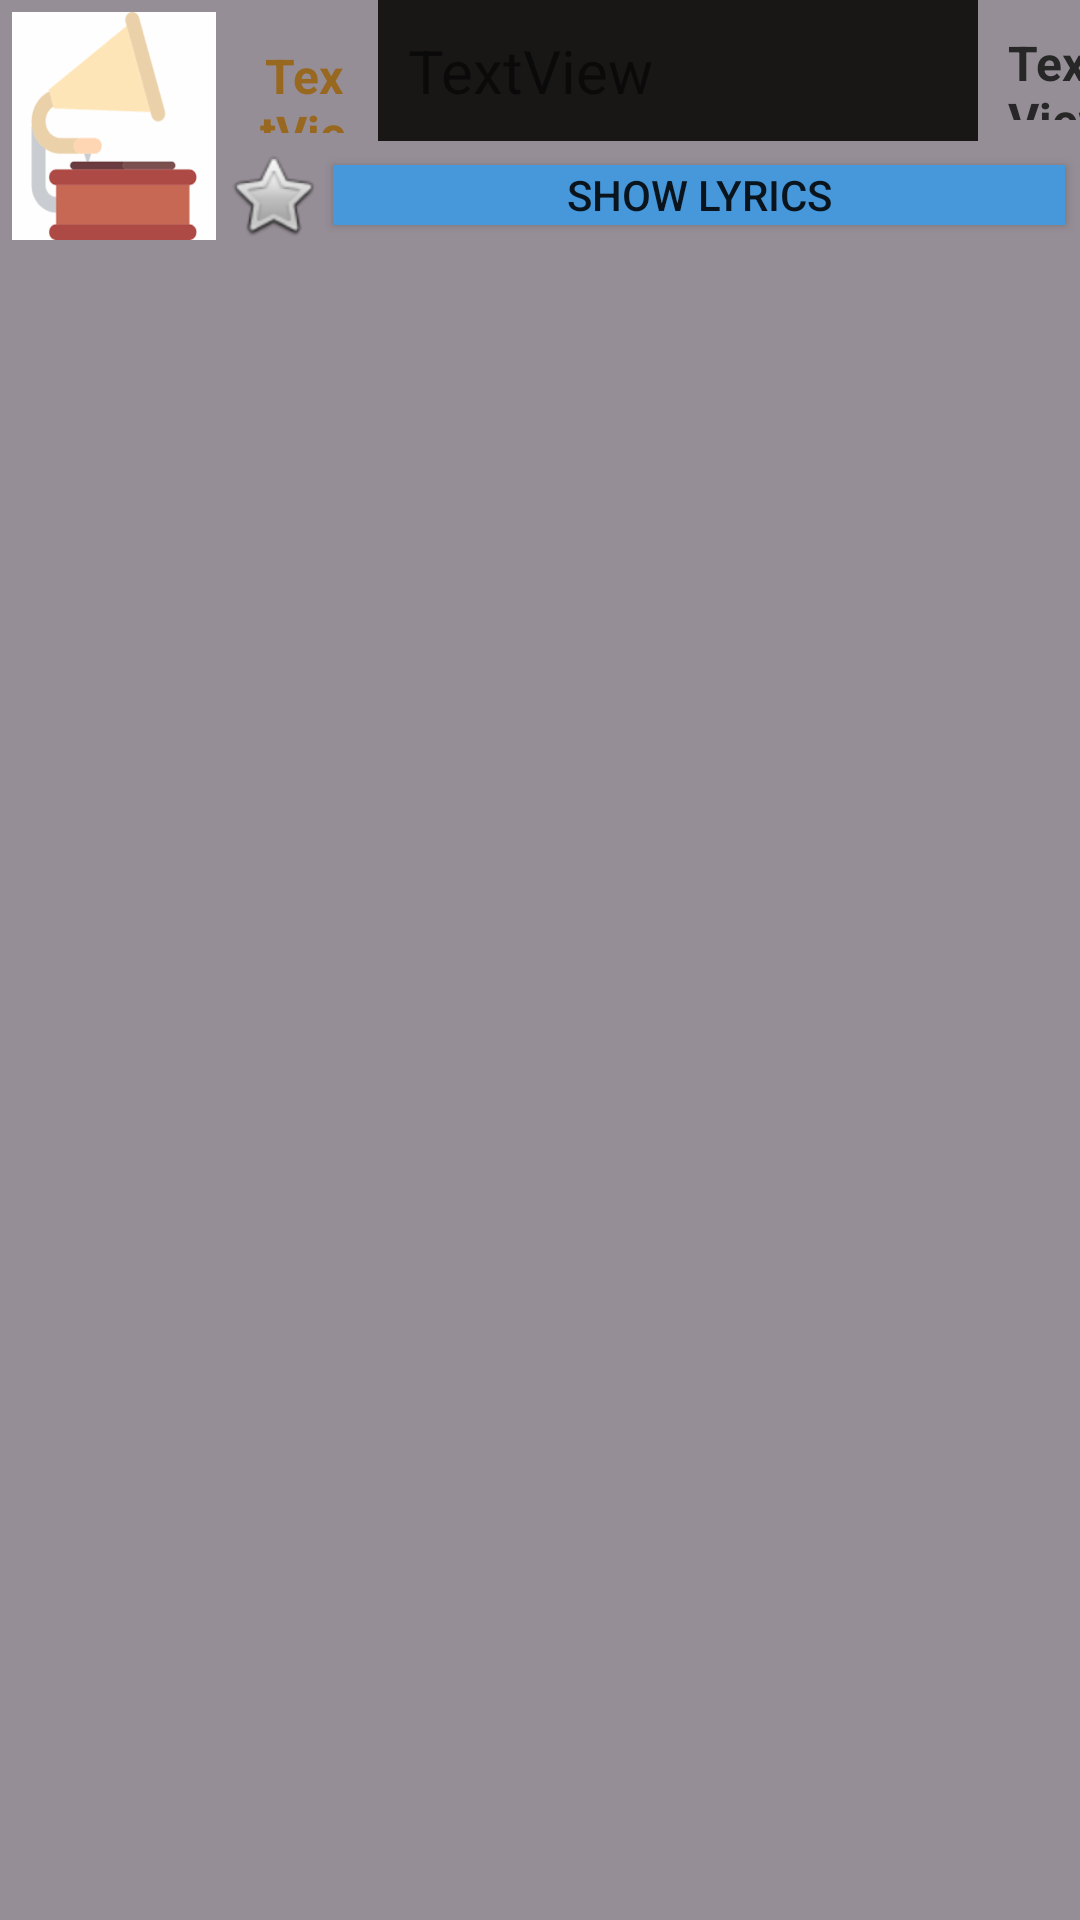

Where icons sit on this 1080w x 1920h app screen, as (x1, y1, x2, y2):
favorite this song: (235, 159, 313, 234)
song: (12, 12, 216, 240)
